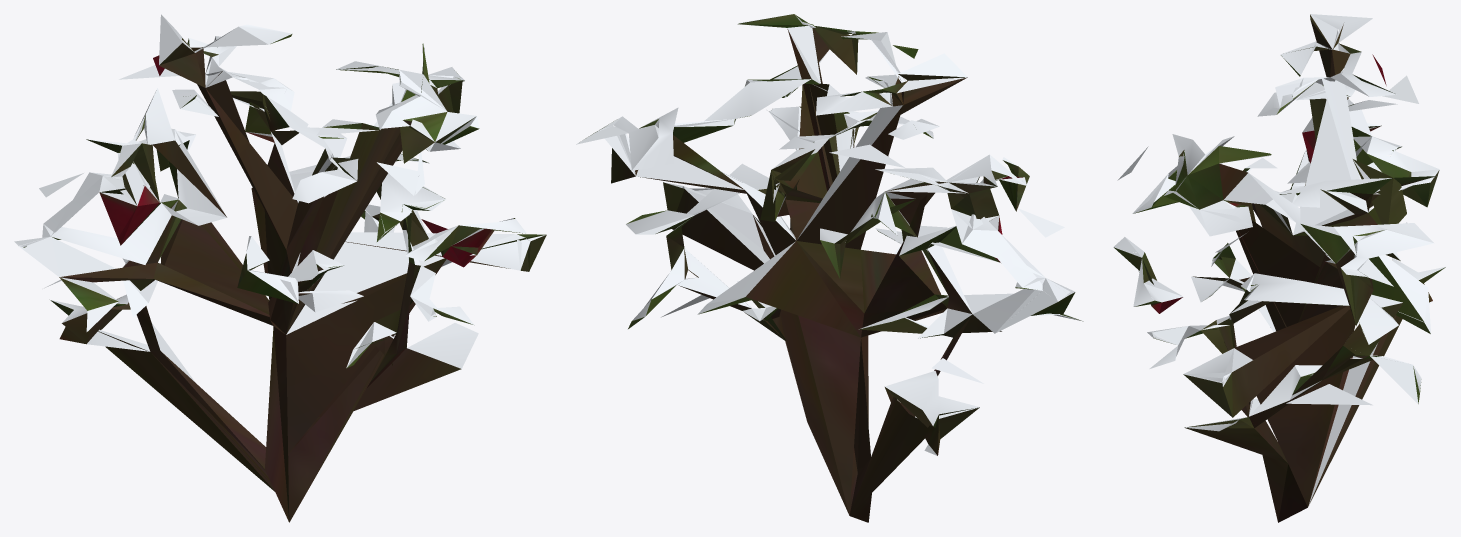
The model's file is bg_snow_bush_1_lod0.glb.
The picture shows the model from 3 angles, left to right: view 1: azimuth 30°, elevation 25°; view 2: azimuth 150°, elevation 25°; view 3: azimuth 270°, elevation 25°; orthographic projection. The views are drawn at different scales.
Visible parts, largest first — view 1: body, sway; view 2: sway, body; view 3: sway, body.
Boxes of the visible parts, x1,y1,x2,y2 form: body: [59, 38, 508, 522]; sway: [14, 14, 546, 382]; sway: [576, 14, 1083, 455]; body: [635, 28, 1022, 522]; sway: [1113, 14, 1445, 506]; body: [1151, 14, 1432, 522].
Size of the model in its own units: 1.15 by 1.17 by 0.7547.
Materials: 2 (1 with a texture image).
